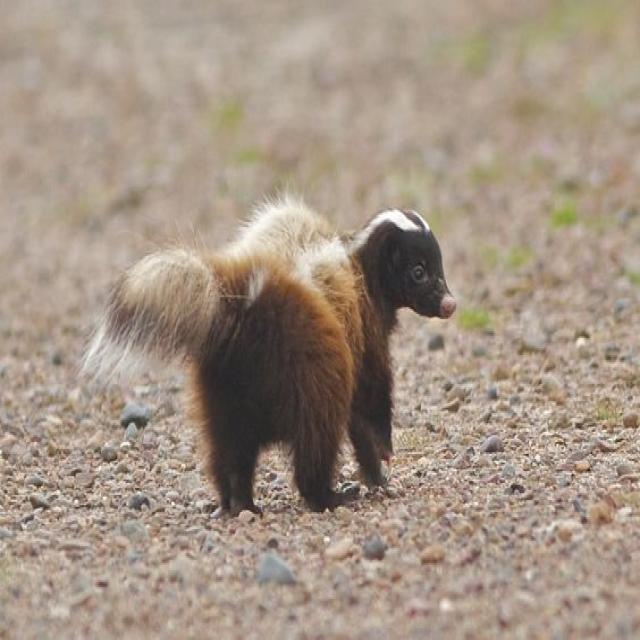Skunk: (88, 154, 464, 509)
